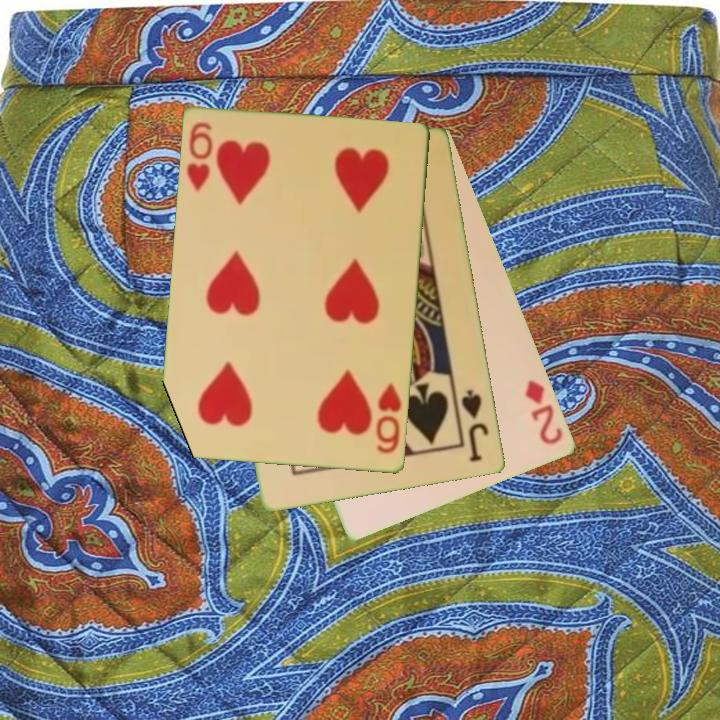2d: (521, 376, 566, 448)
6h: (183, 119, 216, 194), (373, 380, 405, 457)
Js: (458, 386, 492, 465)
